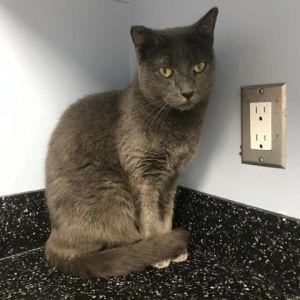rblue: (117, 2, 231, 130)
